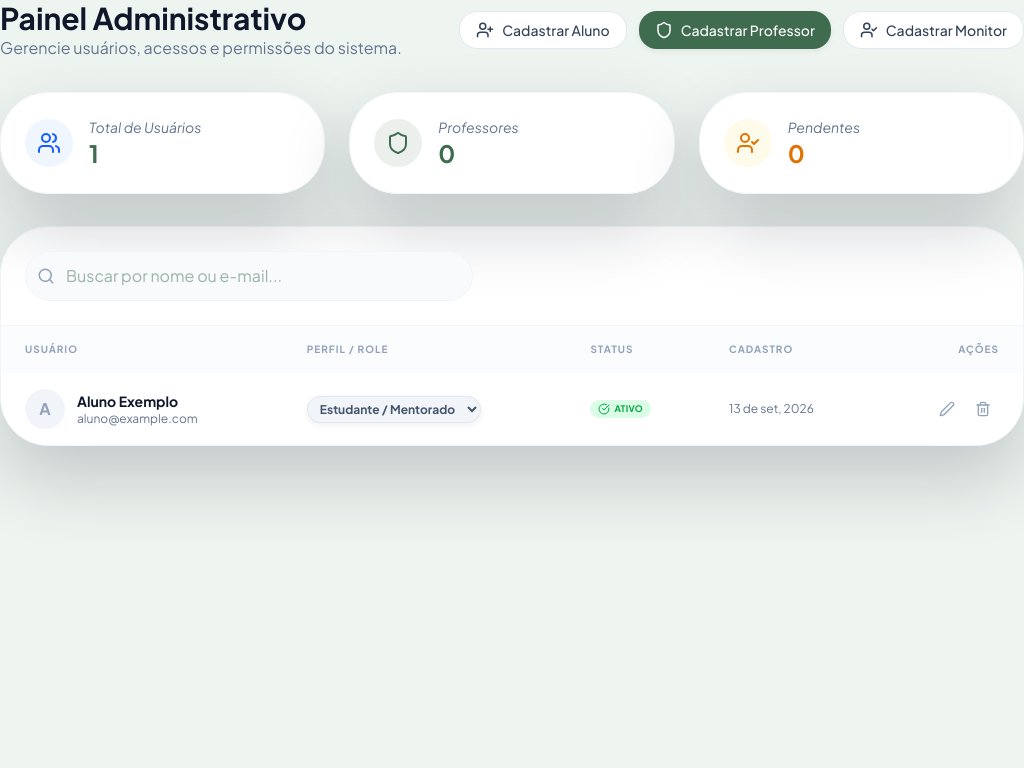
Test: AdminPanel › keeps email read-only when editing an existing user
The image size is (1024, 768).
Check: the text "Aluno Exemplo" is shown, box [77,392,178,410]
Click the button titled "Editar" at (947, 409), box [931,393,963,425]
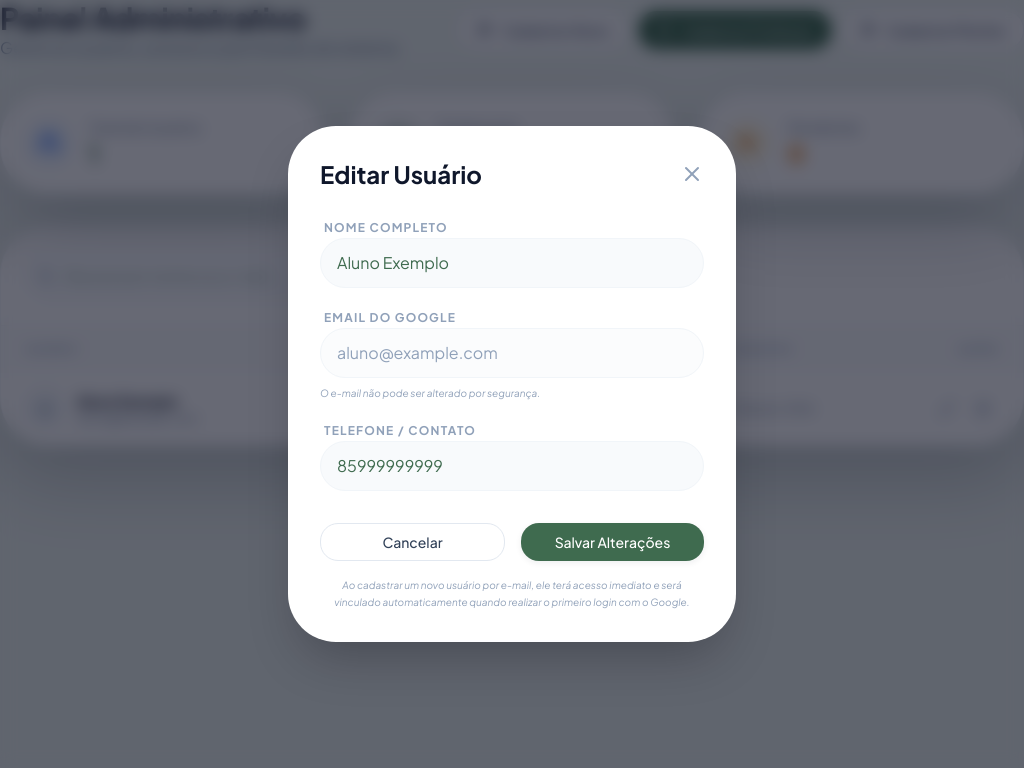
Check: the field with placeholder "usuario@gmail.com" holds "aluno@example.com", box [320,328,704,378]
Check: the field with placeholder "usuario@gmail.com" is enabled, box [320,328,704,378]
